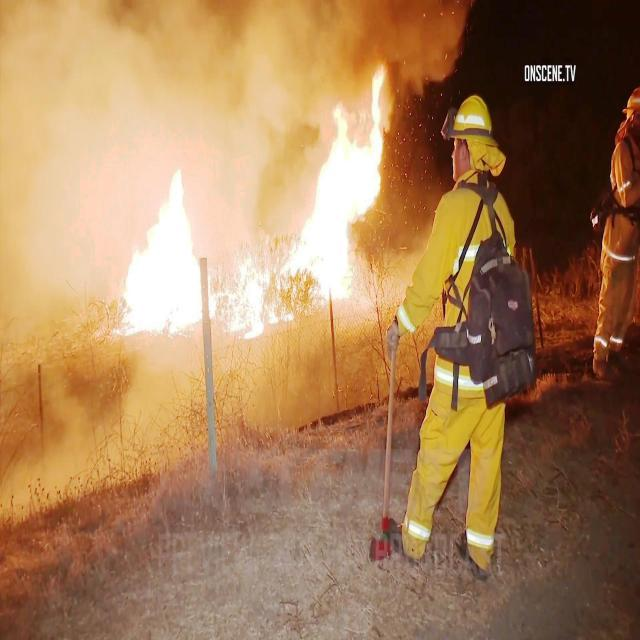Fire: (206, 65, 388, 344), (120, 168, 211, 338)
Smoke: (0, 0, 119, 489), (207, 2, 472, 60), (116, 0, 201, 156)
